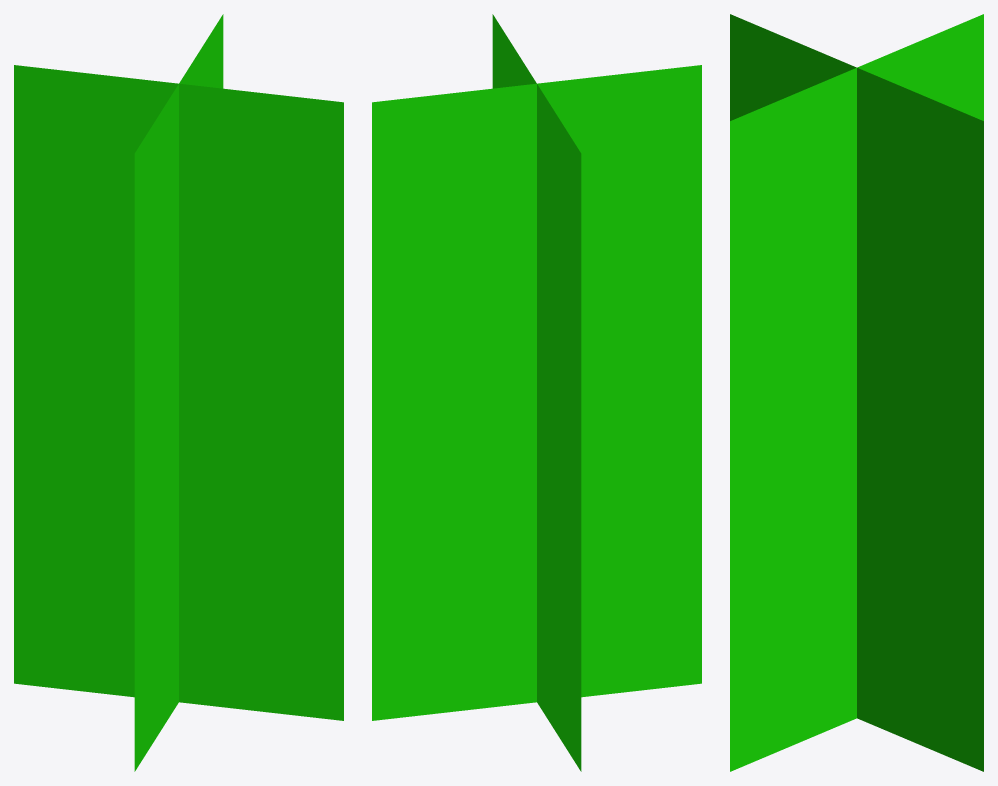
The model's file is tallgrass.obj.
The picture shows the model from 3 angles, left to right: view 1: azimuth 30°, elevation 25°; view 2: azimuth 150°, elevation 25°; view 3: azimuth 270°, elevation 25°; orthographic projection. The views are drawn at different scales.
Visible parts, largest first — view 1: top, bottom; view 2: top, bottom; view 3: top, bottom.
Boxes of the visible parts, x1,y1,x2,y2 form: top: (14, 14, 343, 462); bottom: (14, 374, 343, 771); top: (372, 14, 701, 462); bottom: (372, 374, 701, 771); top: (730, 14, 983, 446); bottom: (730, 393, 983, 771).
Bounding box in the file's own units: 0.7071 × 2 × 0.7071.
